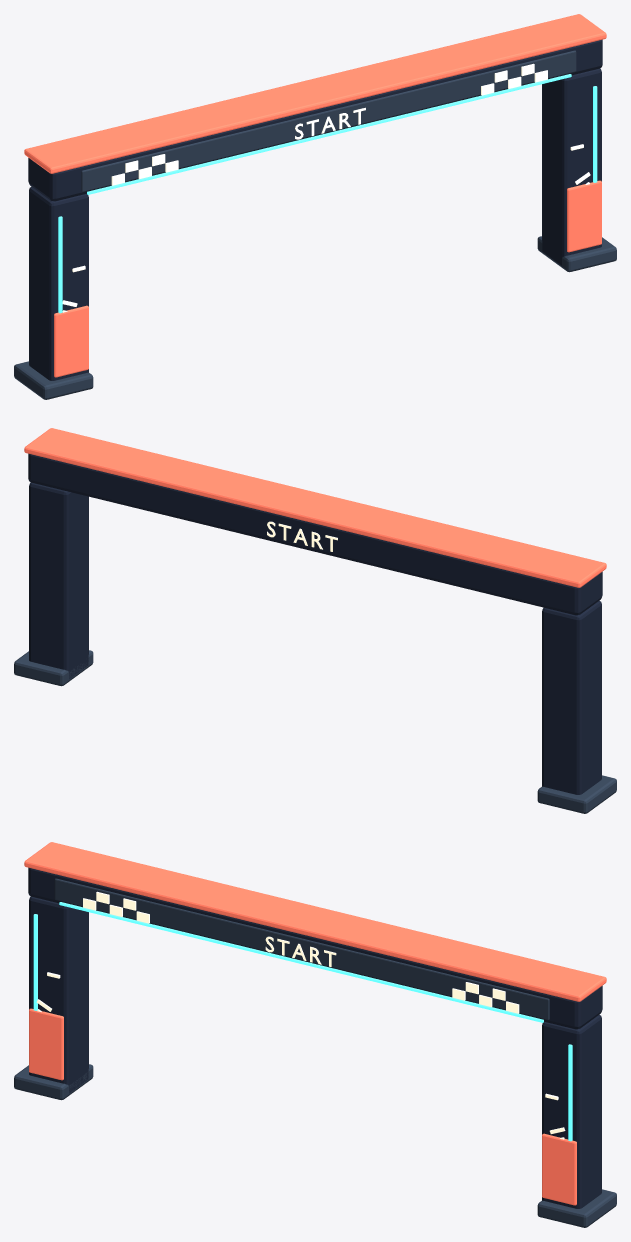
Rendered from arch.glb.
3 views of the same model, one above another, from view 1: azimuth 30°, elevation 25°; view 2: azimuth 150°, elevation 25°; view 3: azimuth 330°, elevation 25° (orthographic).
Parts seen in each view (by area): view 1: arch; view 2: arch; view 3: arch.
Boxes of the visible parts, box(x1,y1,x2,y2) form: arch: box(14, 14, 616, 399); arch: box(14, 428, 616, 813); arch: box(14, 842, 616, 1227).
Bounding box in the file's own units: 21.8 × 8.32 × 2.1.
